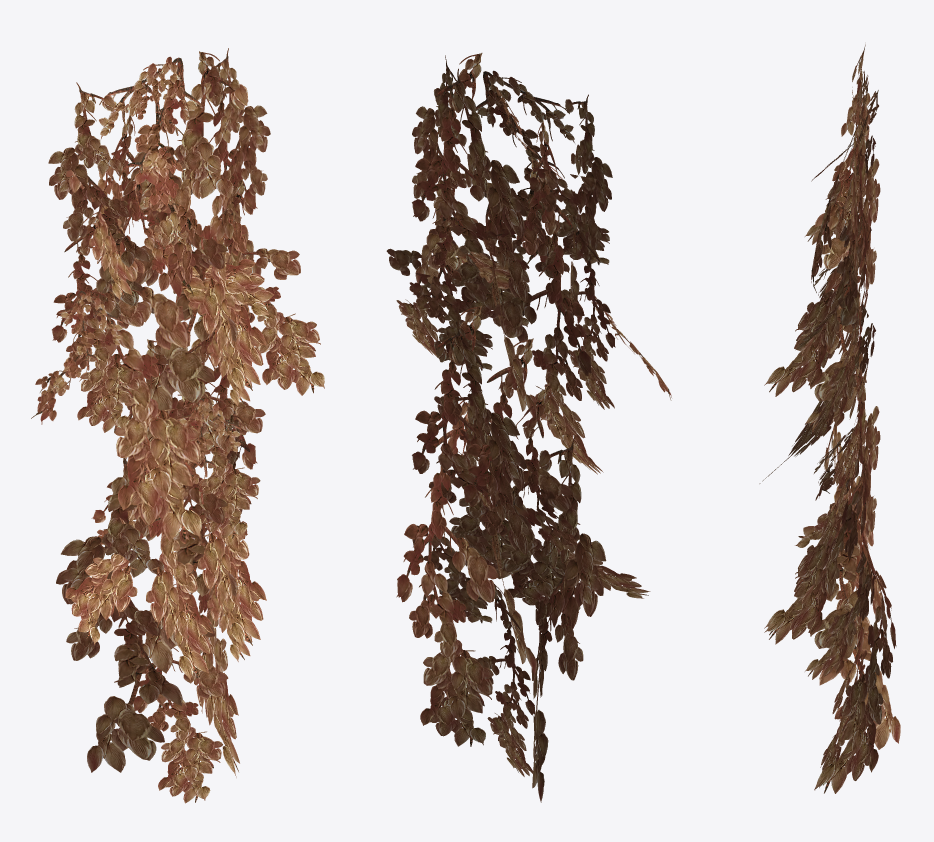
Rendered from ivy06_lod0.fbx.
The picture shows the model from 3 angles, left to right: view 1: azimuth 30°, elevation 25°; view 2: azimuth 150°, elevation 25°; view 3: azimuth 270°, elevation 25°; orthographic projection. The views are drawn at different scales.
Parts seen in each view (by area): view 1: Mesh Object; view 2: Mesh Object; view 3: Mesh Object.
Part boxes in pixels (x1,y1,x2,y2): Mesh Object: (31,48,324,803); Mesh Object: (386,53,671,802); Mesh Object: (759,44,900,793).
Size of the model in its own units: 0.8055 by 1.95 by 0.5063.
